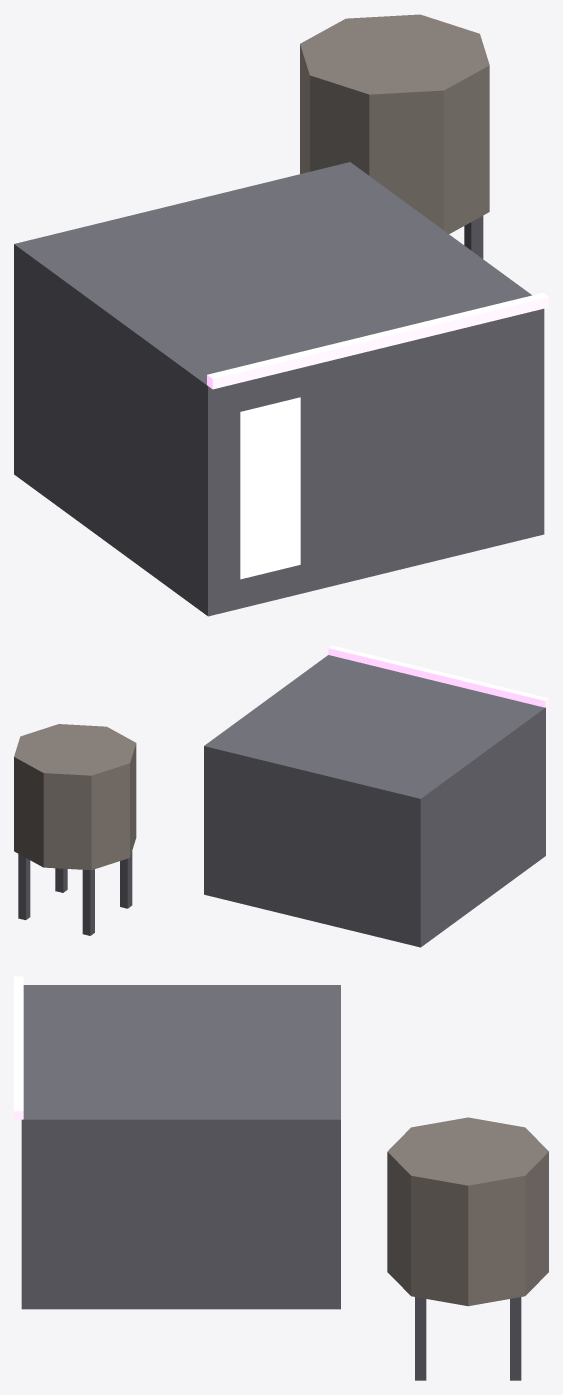
File: crown_roof_box.glb
3 renders of one model, top to bottom at view 1: azimuth 30°, elevation 25°; view 2: azimuth 150°, elevation 25°; view 3: azimuth 270°, elevation 25°, orthographic. The views are drawn at different scales.
Visible parts, largest first — view 1: crown_roof_box; view 2: crown_roof_box; view 3: crown_roof_box.
Part boxes in pixels (bbox=[...]): crown_roof_box: bbox=[14, 14, 548, 616]; crown_roof_box: bbox=[14, 645, 548, 947]; crown_roof_box: bbox=[14, 976, 548, 1380].
Bounding box in the file's own units: 5.43 × 2.4 × 5.63.
